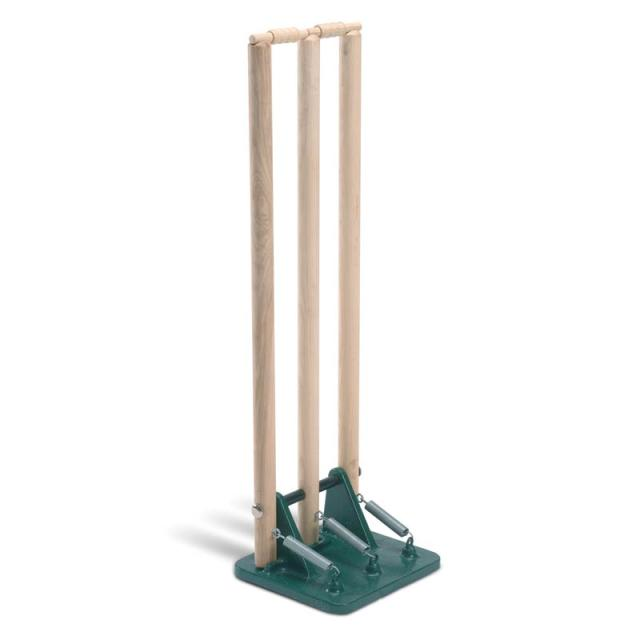stump: (250, 18, 366, 566)
